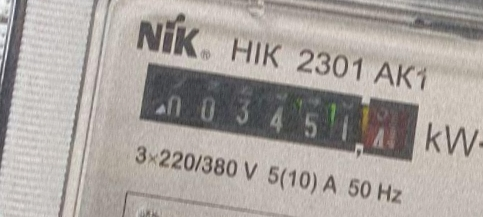0: (160, 90, 183, 119), (195, 94, 217, 124)
1: (334, 111, 353, 144)
3: (230, 95, 252, 128)
4: (263, 102, 287, 136), (365, 123, 388, 153)
5: (299, 108, 319, 141)
screen: (129, 57, 425, 170)
